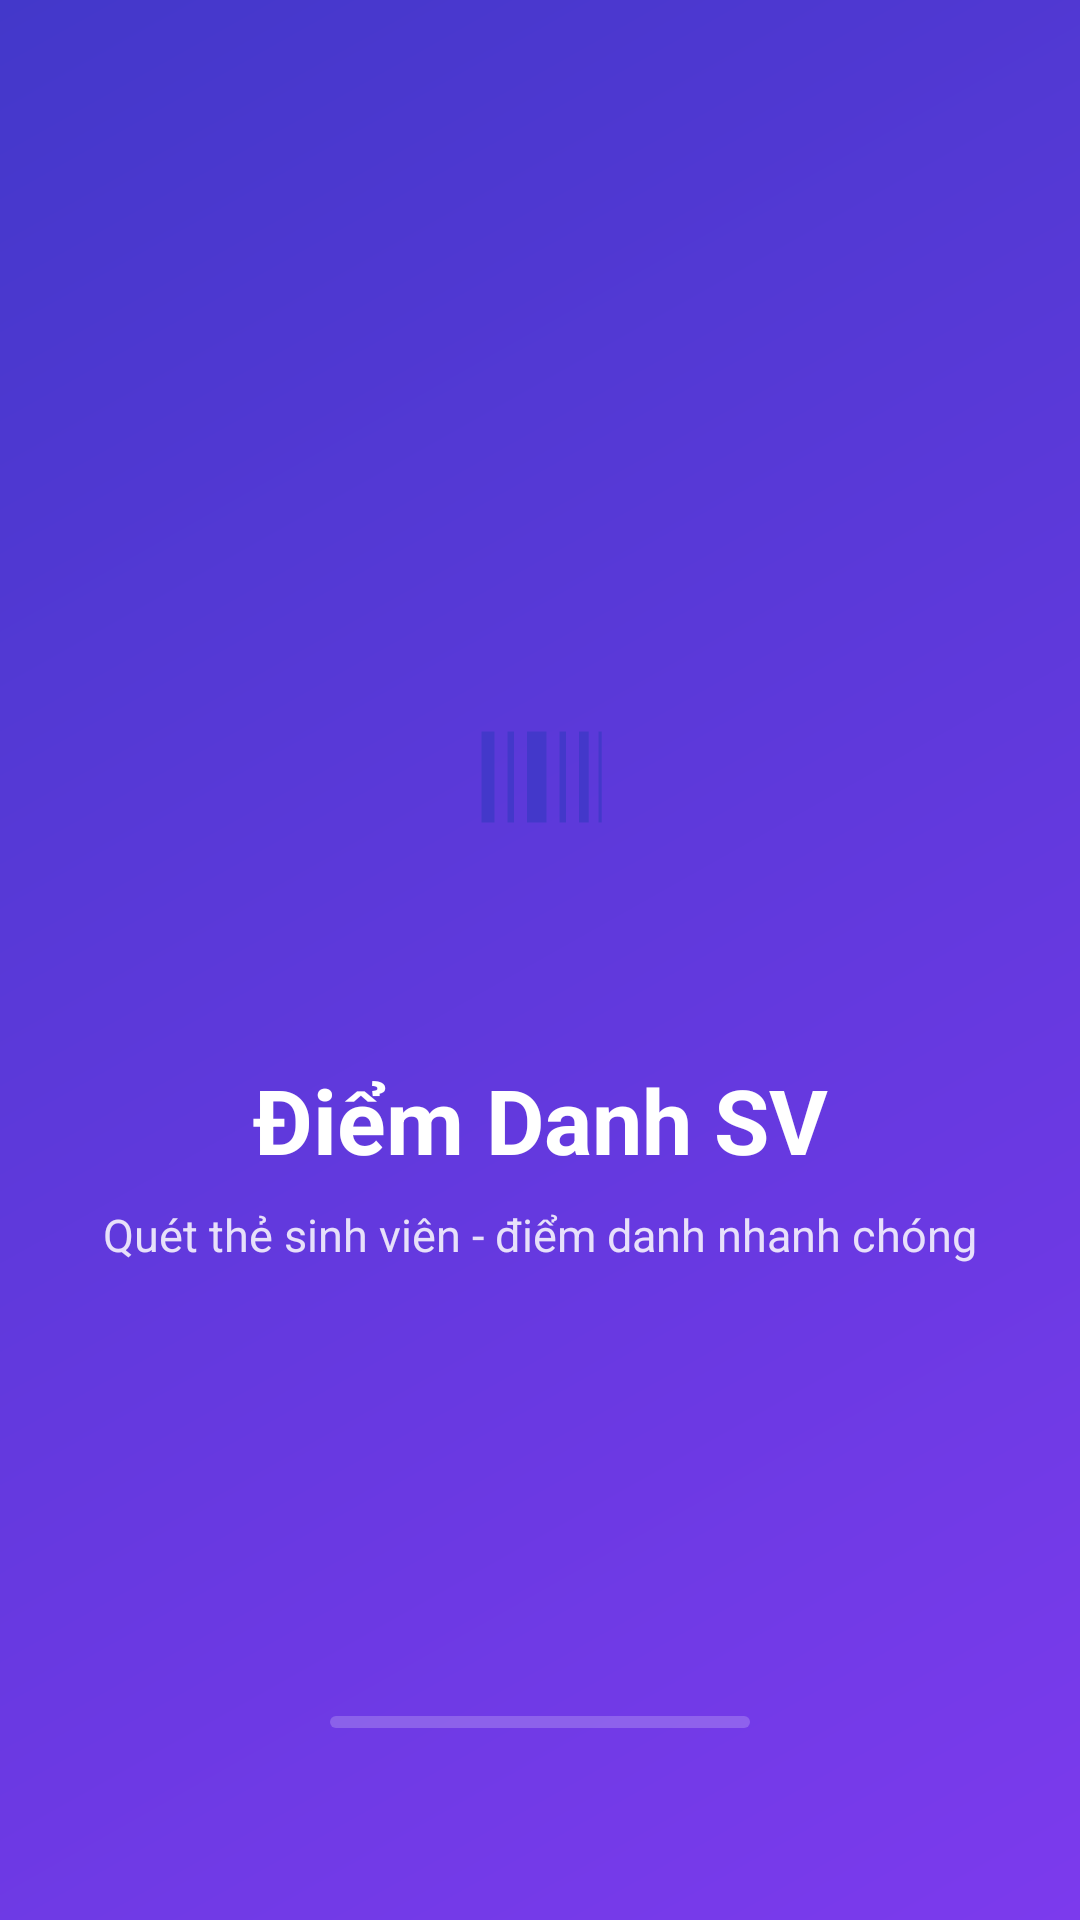

Screen size 1080px×1920px. Icon name, then its center in pixels as (x=x, y=y):
barcode: (x=541, y=777)
